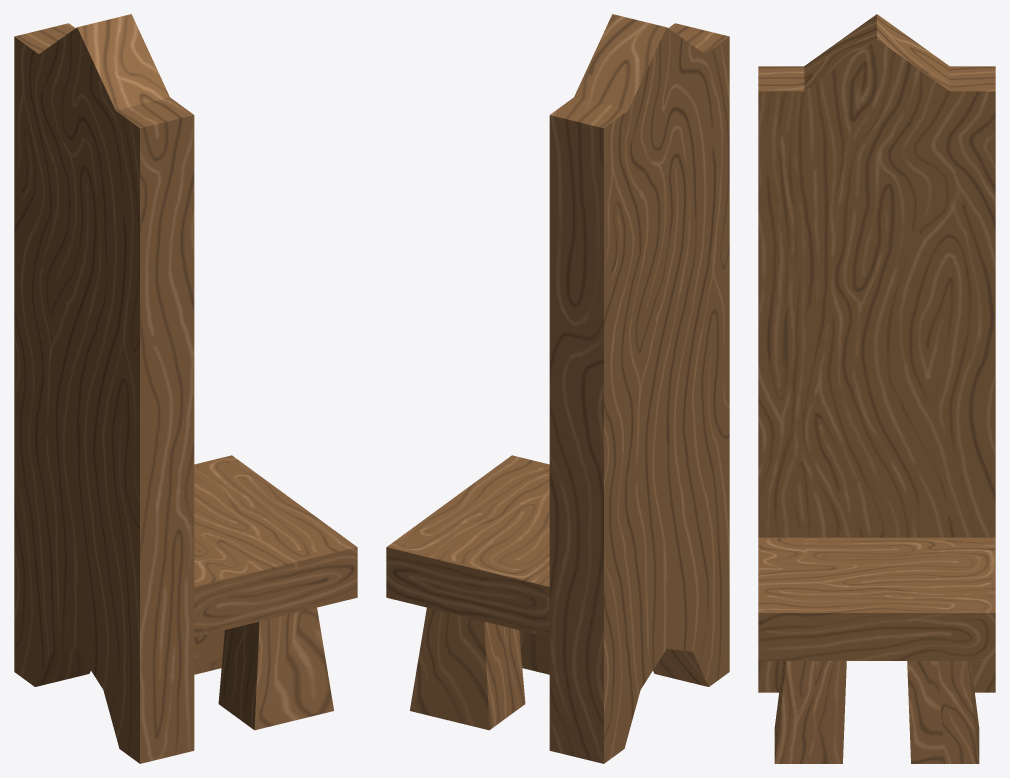
The model's file is LowPolyChairfixed.fbx.
3 renders of one model, left to right at view 1: azimuth 30°, elevation 25°; view 2: azimuth 150°, elevation 25°; view 3: azimuth 270°, elevation 25°, orthographic. The views are drawn at different scales.
Visible parts, largest first — view 1: Cube; view 2: Cube; view 3: Cube.
Part boxes in pixels (<box>): Cube: <box>14,14,357,763</box>; Cube: <box>386,14,729,763</box>; Cube: <box>758,14,995,763</box>.
Size of the model in its own units: 200 by 610 by 200.
